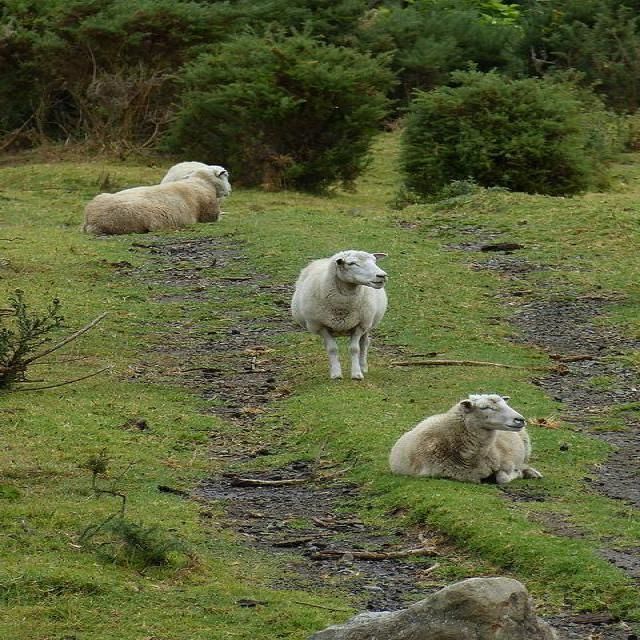Sheep: (286, 249, 398, 384), (392, 394, 541, 487), (79, 166, 232, 235)
